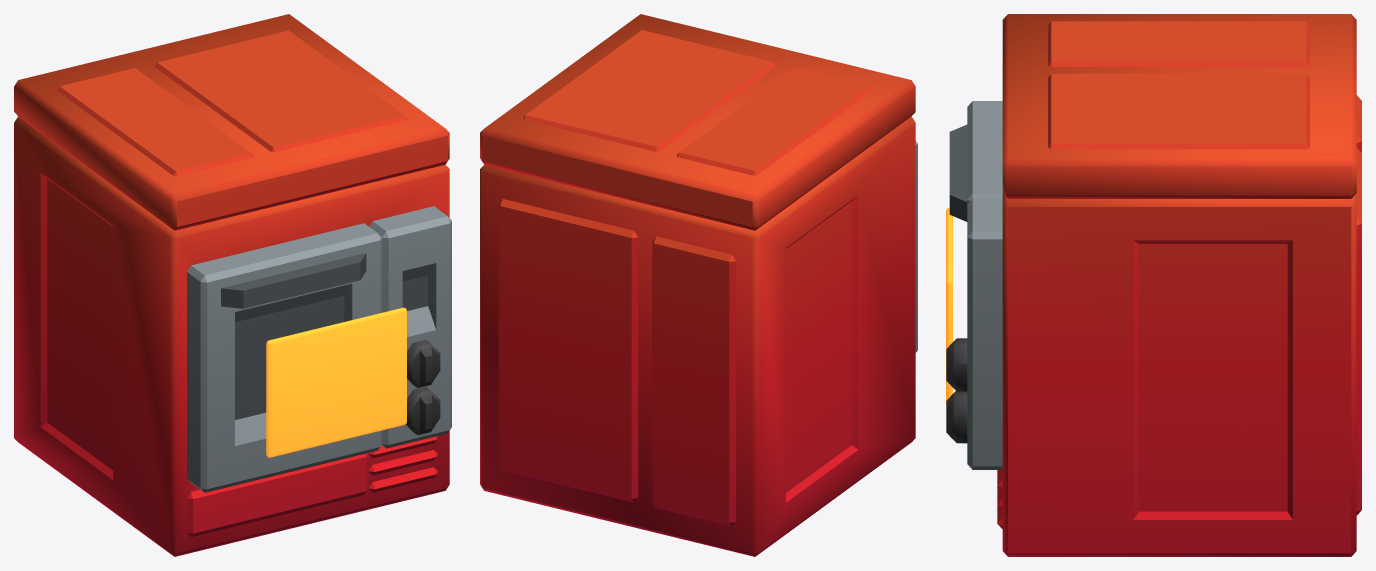
The model's file is oven.glb.
3 views of the same model, side by side, from view 1: azimuth 30°, elevation 25°; view 2: azimuth 150°, elevation 25°; view 3: azimuth 270°, elevation 25° (orthographic). The views are drawn at different scales.
Parts seen in each view (by area): view 1: oven, oven_door, glow; view 2: oven, oven_door; view 3: oven, oven_door, glow.
Boxes of the visible parts, box(x1,y1,x2,y2) form: oven: box(14, 14, 451, 556); oven_door: box(187, 223, 381, 492); glow: box(266, 307, 406, 457); oven: box(480, 14, 915, 556); oven_door: box(915, 141, 917, 352); oven: box(946, 14, 1361, 556); oven_door: box(949, 101, 1002, 221); glow: box(946, 207, 952, 404).
Bounding box in the file's own units: 1 × 1.25 × 1.18.
2 materials, 1 textured.
